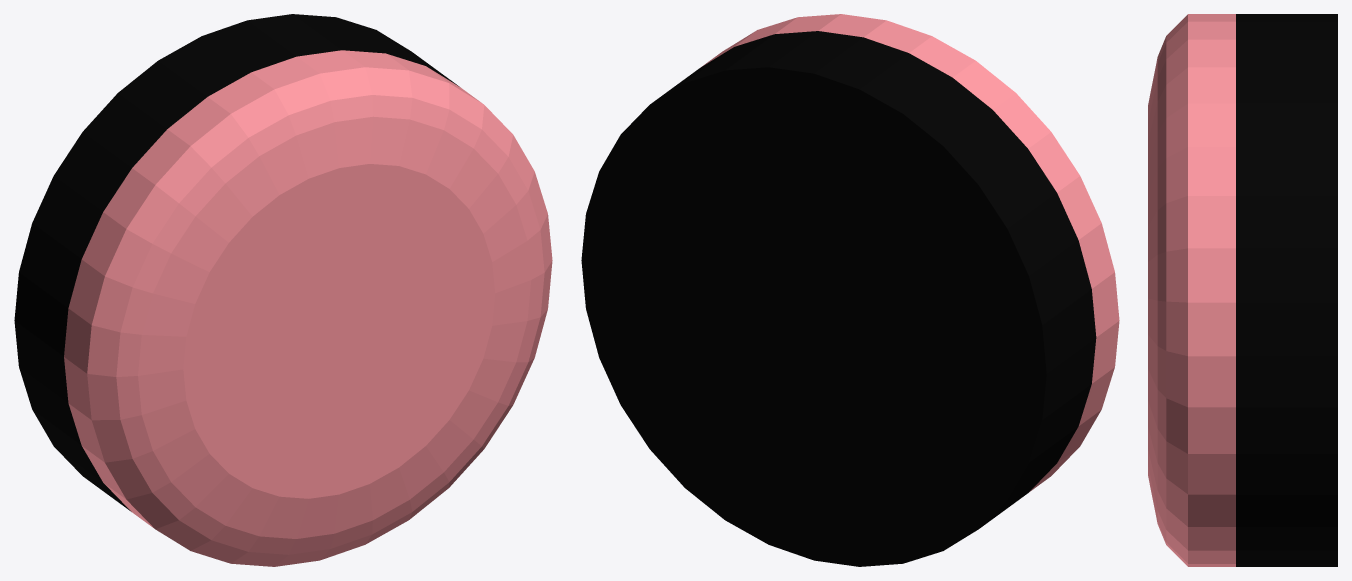
Rendered from redAlarm.dae.
The picture shows the model from 3 angles, left to right: view 1: azimuth 30°, elevation 25°; view 2: azimuth 150°, elevation 25°; view 3: azimuth 270°, elevation 25°; orthographic projection. The views are drawn at different scales.
Parts seen in each view (by area): view 1: Cylinder.001; view 2: Cylinder.001; view 3: Cylinder.001.
Boxes of the visible parts, x1=… form: Cylinder.001: x1=14, y1=14, x2=552, y2=566; Cylinder.001: x1=581, y1=14, x2=1119, y2=566; Cylinder.001: x1=1148, y1=14, x2=1337, y2=566.
Size of the model in its own units: 0.1622 by 0.0557 by 0.1622.
